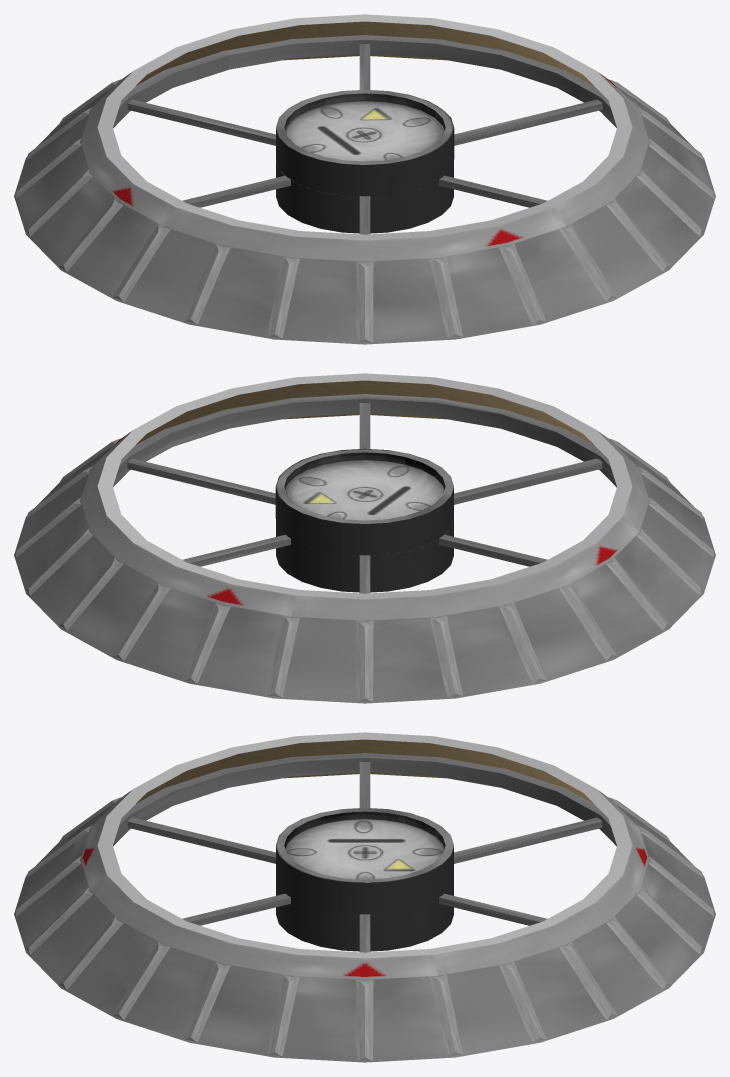
3 views of the same model, one above another, from view 1: azimuth 30°, elevation 25°; view 2: azimuth 150°, elevation 25°; view 3: azimuth 270°, elevation 25° (orthographic).
Visible parts, largest first — view 1: Adapter1825, Cylinder047, Tube003, Cylinder046, Box108, Box110, Bracer011, Bracer012, Bracer010, Bracer013, Bracer009, Bracer014 (+8 smaller); view 2: Adapter1825, Cylinder047, Tube003, Cylinder046, Box108, Box109, Bracer003, Bracer004, Bracer002, Bracer005, Bracer001, Bracer006 (+8 smaller); view 3: Adapter1825, Cylinder047, Tube003, Cylinder046, Box110, Box109, Bracer019, Bracer020, Bracer018, Bracer021, Bracer017, Bracer022 (+8 smaller).
Part boxes in pixels (x1,y1,x2,y2): Adapter1825: (14,14,715,344); Cylinder047: (276,89,454,196); Tube003: (113,35,616,128); Cylinder046: (276,160,453,233); Box108: (182,99,602,207); Box110: (127,99,547,207); Bracer011: (356,261,373,342); Bracer012: (430,256,462,338); Bracer010: (267,256,299,338); Bracer013: (499,244,545,324); Bracer009: (184,244,230,324); Bracer014: (559,224,616,301); Adapter1825: (14,373,715,703); Cylinder047: (275,448,453,555); Tube003: (113,394,616,487); Cylinder046: (276,519,453,592); Box108: (127,458,547,566); Box109: (182,458,602,566); Bracer003: (356,620,373,701); Bracer004: (430,615,462,697); Bracer002: (267,615,299,697); Bracer005: (499,603,545,683); Bracer001: (184,603,230,683); Bracer006: (559,583,616,660); Adapter1825: (14,732,715,1062); Cylinder047: (276,808,453,914); Tube003: (113,753,616,846); Cylinder046: (276,878,453,951); Box110: (182,817,602,925); Box109: (127,817,547,925); Bracer019: (356,979,373,1060); Bracer020: (430,974,462,1056); Bracer018: (267,974,299,1056); Bracer021: (499,962,545,1042); Bracer017: (184,962,230,1042); Bracer022: (559,942,616,1019).
Size of what is drawn, in the model's own units: 2.5 by 0.2704 by 2.5.
1 material, 1 textured.
